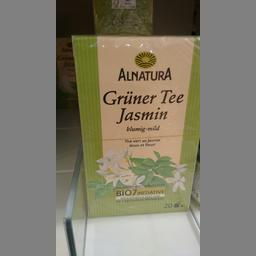tea: (70, 33, 196, 217)
